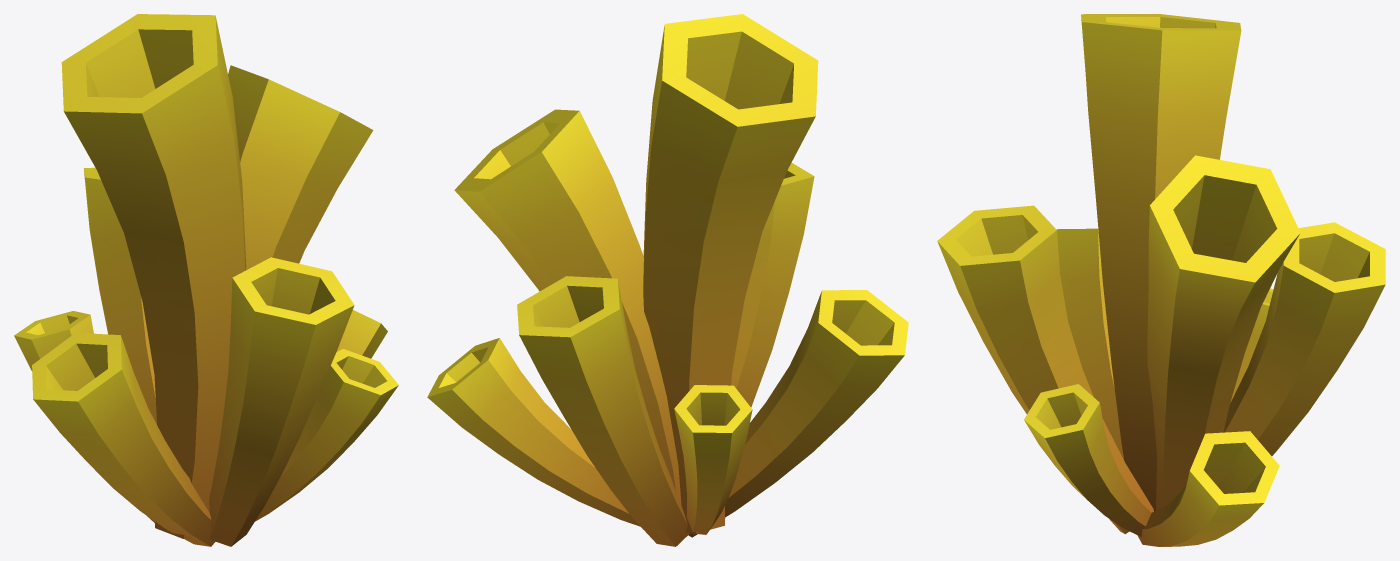
File: Coral Type 3.fbx
3 renders of one model, left to right at view 1: azimuth 30°, elevation 25°; view 2: azimuth 150°, elevation 25°; view 3: azimuth 270°, elevation 25°, orthographic. The views are drawn at different scales.
Visible parts, largest first — view 1: pCylinder11; view 2: pCylinder11; view 3: pCylinder11.
Boxes of the visible parts, bbox=[...] form: pCylinder11: bbox=[14, 14, 398, 546]; pCylinder11: bbox=[427, 14, 908, 546]; pCylinder11: bbox=[937, 14, 1385, 546].
Bounding box in the file's own units: 3.81 × 4.59 × 3.64.
